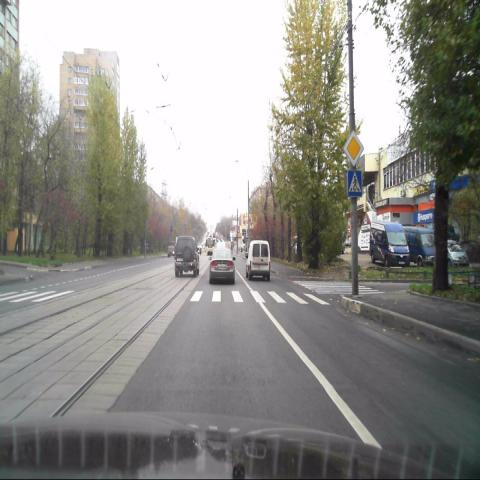2_1: (344, 131, 364, 166)
5_19_1: (347, 169, 362, 198)
